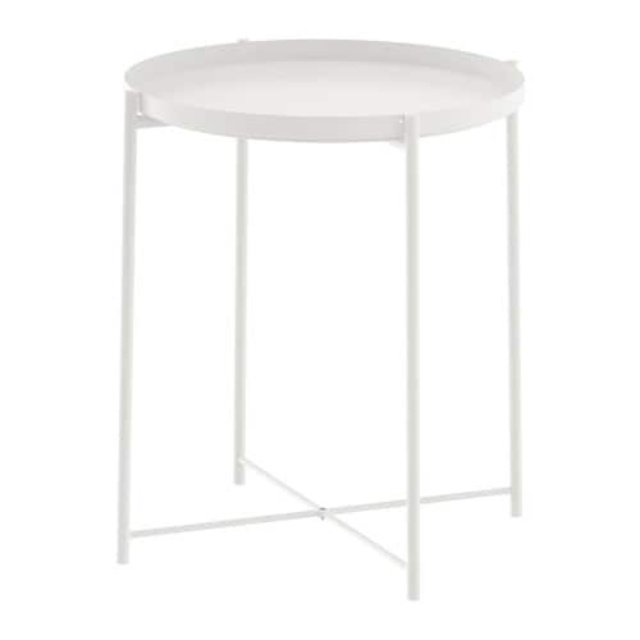obstacle: (118, 40, 522, 599)
